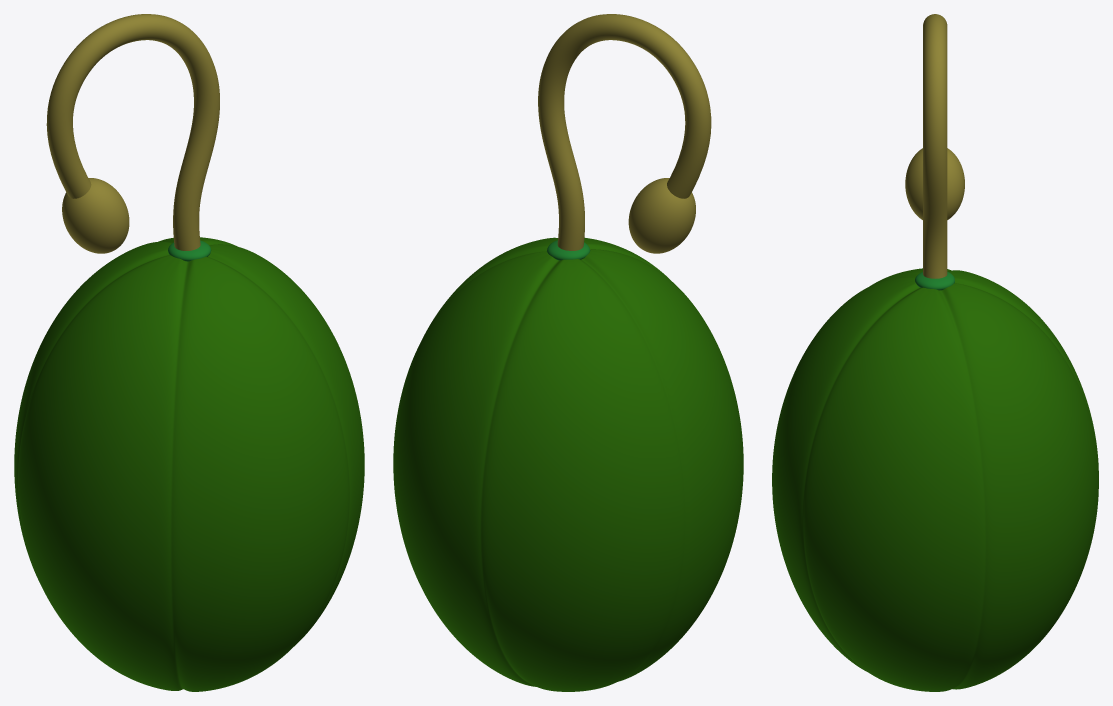
The model's file is caper.fbx.
3 views of the same model, side by side, from view 1: azimuth 30°, elevation 25°; view 2: azimuth 150°, elevation 25°; view 3: azimuth 270°, elevation 25° (orthographic). The views are drawn at different scales.
Visible parts, largest first — view 1: Sphere, NurbsPath.002, Sphere.003; view 2: Sphere, NurbsPath.002, Sphere.003; view 3: Sphere, NurbsPath.002, Sphere.003.
Part boxes in pixels (x1=…): Sphere: x1=14, y1=237, x2=364, y2=691; NurbsPath.002: x1=46, y1=14, x2=219, y2=250; Sphere.003: x1=62, y1=178, x2=129, y2=253; Sphere: x1=393, y1=237, x2=743, y2=691; NurbsPath.002: x1=538, y1=14, x2=711, y2=250; Sphere.003: x1=628, y1=178, x2=695, y2=253; Sphere: x1=772, y1=268, x2=1098, y2=691; NurbsPath.002: x1=923, y1=14, x2=947, y2=278; Sphere.003: x1=905, y1=148, x2=964, y2=219.
Size of the model in its own units: 72.61 by 155 by 72.7.
